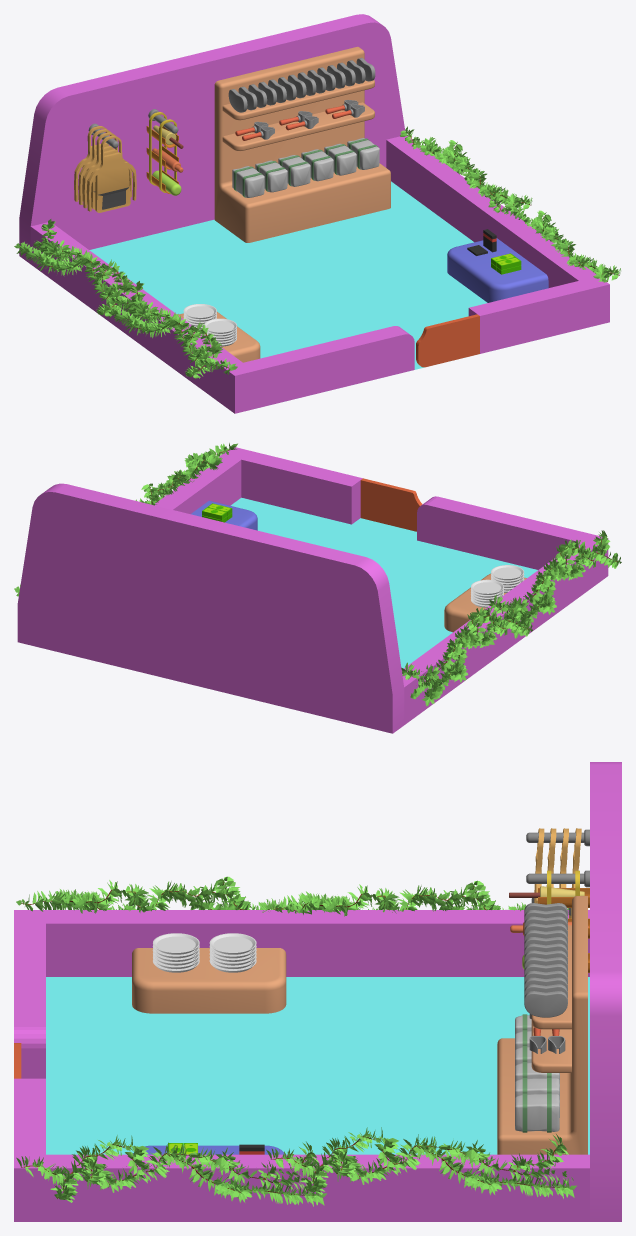
Rendered from kilOda.fbx.
3 views of the same model, one above another, from view 1: azimuth 30°, elevation 25°; view 2: azimuth 150°, elevation 25°; view 3: azimuth 270°, elevation 25° (orthographic). The views are drawn at different scales.
Visible parts, largest first — view 1: zemin, Cube.005, tezgah, Cube.008, Cube.004, Cube.009, Cube.006, kil.001, masa2, leaf 2.001, leaf 2.965, alet1.001 (+10 smaller); view 2: Cube.005, zemin, Cube.008, Cube.009, Cube.006, leaf 2.965, leaf 2.001, Cube.004, kapi, leaf 2.003, masa, tabak.001 (+2 smaller); view 3: zemin, Cube.004, Cube.006, Cube.005, leaf 2.002, tezgah, masa, leaf 2.003, Cube.008, leaf 2.001, alet1.001, Cube.009 (+8 smaller).
Part boxes in pixels (bbox=[...]): zemin: bbox=[89, 181, 487, 369]; Cube.005: bbox=[19, 14, 405, 263]; tezgah: bbox=[214, 46, 390, 242]; Cube.008: bbox=[223, 326, 414, 413]; Cube.004: bbox=[386, 136, 596, 287]; Cube.009: bbox=[468, 277, 609, 353]; Cube.006: bbox=[30, 222, 242, 404]; kil.001: bbox=[232, 138, 379, 197]; masa2: bbox=[447, 238, 548, 302]; leaf 2.001: bbox=[107, 281, 237, 378]; leaf 2.965: bbox=[14, 219, 148, 316]; alet1.001: bbox=[228, 57, 375, 112]; Cube.005: bbox=[17, 483, 404, 733]; zemin: bbox=[230, 497, 537, 668]; Cube.008: bbox=[417, 496, 608, 583]; Cube.009: bbox=[222, 447, 362, 524]; Cube.006: bbox=[401, 542, 596, 724]; leaf 2.965: bbox=[401, 598, 532, 706]; leaf 2.001: bbox=[488, 530, 621, 638]; Cube.004: bbox=[155, 455, 241, 513]; kapi: bbox=[360, 478, 422, 531]; leaf 2.003: bbox=[135, 443, 237, 505]; masa: bbox=[444, 573, 526, 632]; tabak.001: bbox=[471, 579, 503, 607]; zemin: bbox=[46, 977, 589, 1154]; Cube.004: bbox=[46, 1154, 589, 1221]; Cube.006: bbox=[46, 910, 589, 976]; Cube.005: bbox=[590, 762, 621, 1221]; leaf 2.002: bbox=[266, 1127, 576, 1198]; tezgah: bbox=[497, 896, 587, 1154]; masa: bbox=[132, 948, 286, 1013]; leaf 2.003: bbox=[16, 1135, 326, 1206]; Cube.008: bbox=[14, 910, 45, 1078]; leaf 2.001: bbox=[16, 876, 318, 914]; alet1.001: bbox=[524, 903, 567, 1017]; Cube.009: bbox=[14, 1078, 45, 1221].
Size of the model in its own units: 1788 by 623 by 1526.
